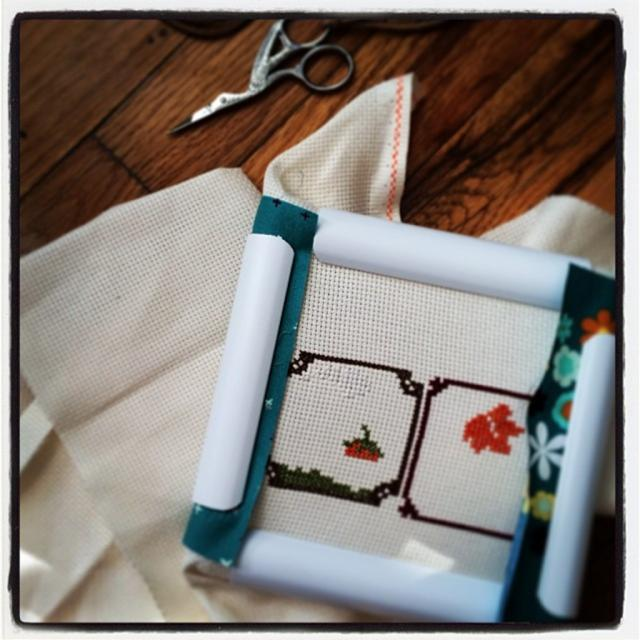scissors: (168, 18, 354, 134)
